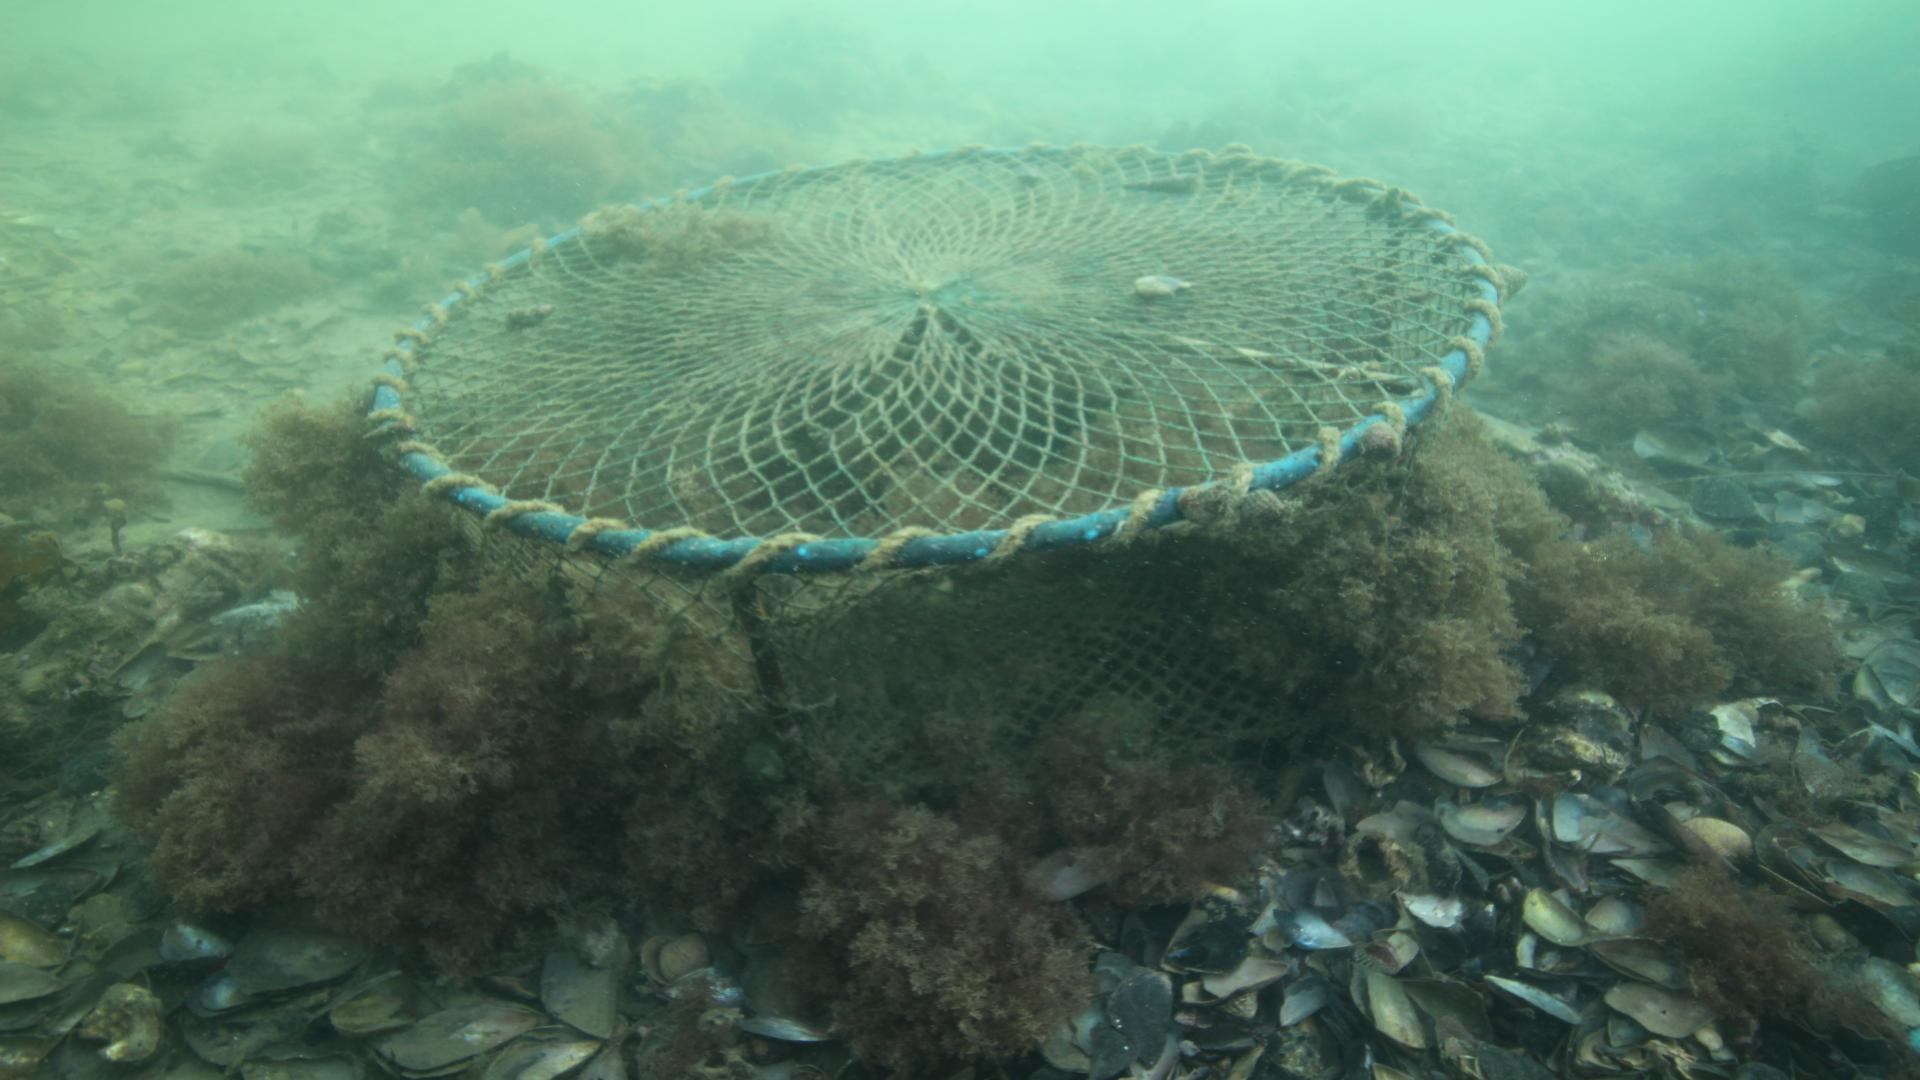circular fish trap: (363, 138, 1505, 775)
